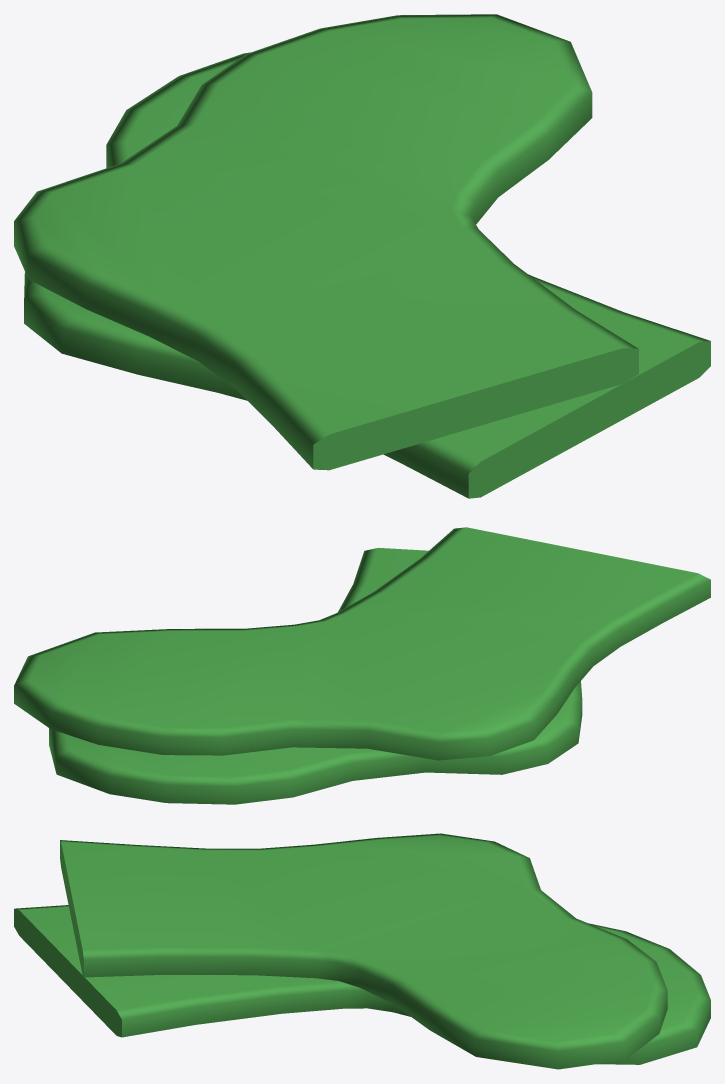
The model's file is Socks.fbx.
The picture shows the model from 3 angles, top to bottom: view 1: azimuth 30°, elevation 25°; view 2: azimuth 150°, elevation 25°; view 3: azimuth 270°, elevation 25°; orthographic projection. The views are drawn at different scales.
Parts seen in each view (by area): view 1: s_02, s_01; view 2: s_02, s_01; view 3: s_02, s_01.
Part boxes in pixels (x1,y1,x2,y2): s_02: (14, 14, 638, 470); s_01: (24, 52, 710, 498); s_02: (14, 527, 710, 760); s_01: (49, 548, 582, 804); s_02: (60, 833, 667, 1069); s_01: (14, 905, 710, 1064).
Size of the model in its own units: 66.72 by 7.14 by 88.04.
